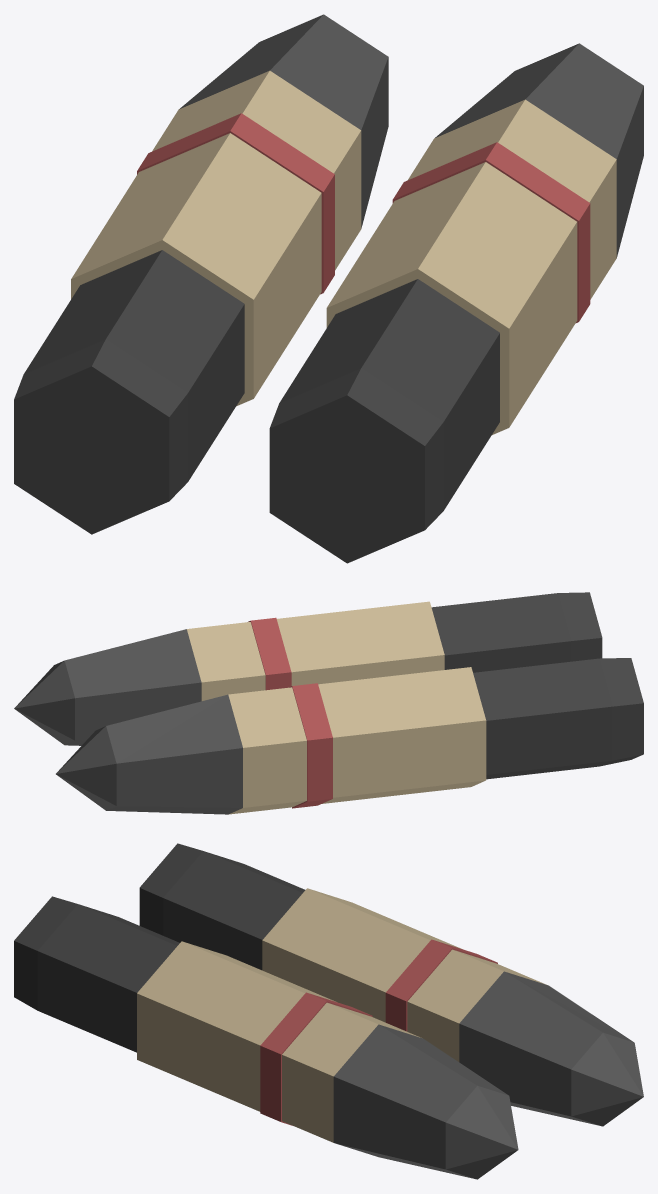
Rendered from ce_ammo2_nbw_he_b.obj.
3 views of the same model, one above another, from view 1: azimuth 30°, elevation 25°; view 2: azimuth 150°, elevation 25°; view 3: azimuth 270°, elevation 25° (orthographic). The views are drawn at different scales.
Visible parts, largest first — view 1: ce_ammo2_nbw_he_b_9, ce_ammo2_nbw_he_b_2, ce_ammo2_nbw_he_b_7, ce_ammo2_nbw_he_b_0, ce_ammo2_nbw_he_b_1, ce_ammo2_nbw_he_b_8, ce_ammo2_nbw_he_b_12, ce_ammo2_nbw_he_b_5, ce_ammo2_nbw_he_b_4, ce_ammo2_nbw_he_b_11, ce_ammo2_nbw_he_b_10, ce_ammo2_nbw_he_b_3; view 2: ce_ammo2_nbw_he_b_2, ce_ammo2_nbw_he_b_1, ce_ammo2_nbw_he_b_5, ce_ammo2_nbw_he_b_9, ce_ammo2_nbw_he_b_12, ce_ammo2_nbw_he_b_8, ce_ammo2_nbw_he_b_4, ce_ammo2_nbw_he_b_11, ce_ammo2_nbw_he_b_0, ce_ammo2_nbw_he_b_3, ce_ammo2_nbw_he_b_6, ce_ammo2_nbw_he_b_13 (+2 smaller); view 3: ce_ammo2_nbw_he_b_9, ce_ammo2_nbw_he_b_12, ce_ammo2_nbw_he_b_5, ce_ammo2_nbw_he_b_2, ce_ammo2_nbw_he_b_8, ce_ammo2_nbw_he_b_1, ce_ammo2_nbw_he_b_11, ce_ammo2_nbw_he_b_4, ce_ammo2_nbw_he_b_13, ce_ammo2_nbw_he_b_6, ce_ammo2_nbw_he_b_10, ce_ammo2_nbw_he_b_7 (+2 smaller).
Boxes of the visible parts, x1,y1,x2,y2 form: ce_ammo2_nbw_he_b_9: (326, 162, 577, 434); ce_ammo2_nbw_he_b_2: (71, 133, 321, 406); ce_ammo2_nbw_he_b_7: (269, 368, 443, 563); ce_ammo2_nbw_he_b_0: (14, 339, 187, 534); ce_ammo2_nbw_he_b_1: (24, 250, 244, 481); ce_ammo2_nbw_he_b_8: (279, 279, 499, 510); ce_ammo2_nbw_he_b_12: (435, 43, 643, 257); ce_ammo2_nbw_he_b_5: (179, 14, 388, 228); ce_ammo2_nbw_he_b_4: (152, 70, 361, 270); ce_ammo2_nbw_he_b_11: (407, 99, 616, 299); ce_ammo2_nbw_he_b_10: (392, 142, 590, 322); ce_ammo2_nbw_he_b_3: (137, 113, 334, 294); ce_ammo2_nbw_he_b_2: (318, 667, 486, 803); ce_ammo2_nbw_he_b_1: (473, 658, 612, 779); ce_ammo2_nbw_he_b_5: (106, 694, 242, 814); ce_ammo2_nbw_he_b_9: (276, 601, 444, 685); ce_ammo2_nbw_he_b_12: (64, 629, 201, 745); ce_ammo2_nbw_he_b_8: (431, 593, 571, 672); ce_ammo2_nbw_he_b_4: (228, 687, 306, 814); ce_ammo2_nbw_he_b_11: (187, 622, 265, 700); ce_ammo2_nbw_he_b_0: (599, 658, 643, 766); ce_ammo2_nbw_he_b_3: (289, 683, 332, 808); ce_ammo2_nbw_he_b_6: (56, 726, 116, 810); ce_ammo2_nbw_he_b_13: (14, 660, 74, 745); ce_ammo2_nbw_he_b_9: (137, 941, 335, 1111); ce_ammo2_nbw_he_b_12: (333, 1024, 508, 1179); ce_ammo2_nbw_he_b_5: (459, 971, 633, 1126); ce_ammo2_nbw_he_b_2: (262, 888, 461, 1022); ce_ammo2_nbw_he_b_8: (37, 904, 179, 1052); ce_ammo2_nbw_he_b_1: (163, 851, 305, 970); ce_ammo2_nbw_he_b_11: (282, 1002, 421, 1142); ce_ammo2_nbw_he_b_4: (407, 949, 547, 1061); ce_ammo2_nbw_he_b_13: (445, 1085, 518, 1179); ce_ammo2_nbw_he_b_6: (571, 1032, 643, 1126); ce_ammo2_nbw_he_b_10: (260, 992, 372, 1125); ce_ammo2_nbw_he_b_7: (14, 896, 77, 1010).
Size of the model in its own units: 0.8167 by 0.1938 by 0.8167.
